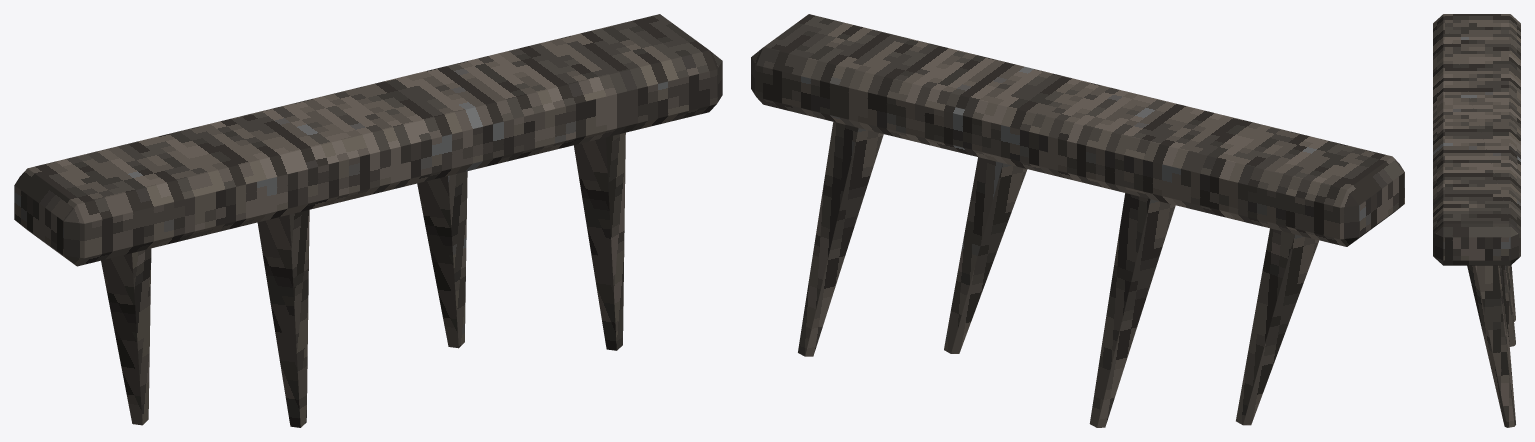
The model's file is beira_reta.glb.
3 views of the same model, side by side, from view 1: azimuth 30°, elevation 25°; view 2: azimuth 150°, elevation 25°; view 3: azimuth 270°, elevation 25° (orthographic). The views are drawn at different scales.
Visible parts, largest first — view 1: neve_beira_reta; view 2: neve_beira_reta; view 3: neve_beira_reta.
Boxes of the visible parts, x1,y1,x2,y2 form: neve_beira_reta: [14, 14, 722, 427]; neve_beira_reta: [751, 14, 1404, 427]; neve_beira_reta: [1433, 14, 1520, 427].
Bounding box in the file's own units: 1 × 0.4671 × 0.17.
1 material, 1 textured.
